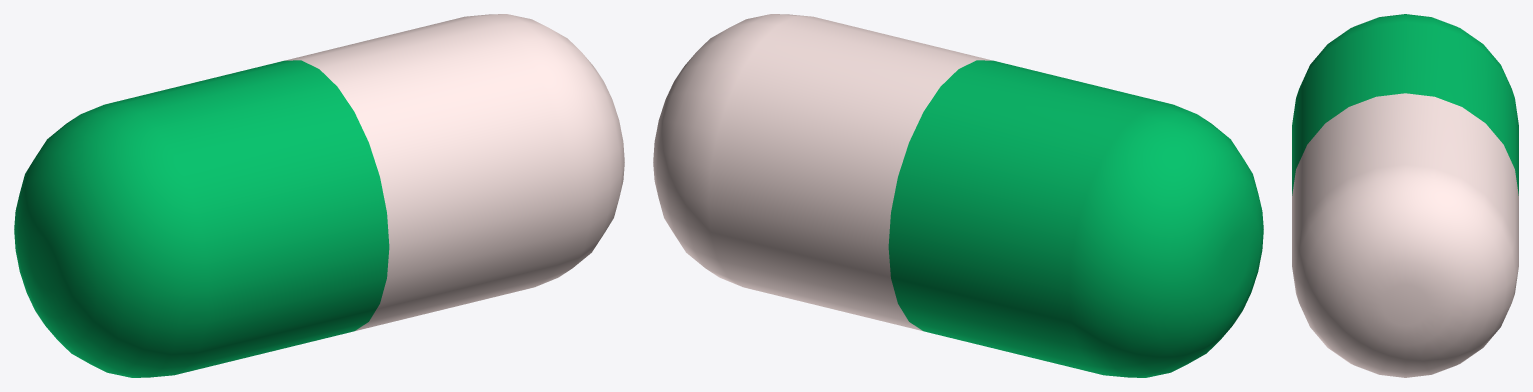
The model's file is Store_15_Pill_6.glb.
3 renders of one model, left to right at view 1: azimuth 30°, elevation 25°; view 2: azimuth 150°, elevation 25°; view 3: azimuth 270°, elevation 25°, orthographic. The views are drawn at different scales.
Parts seen in each view (by area): view 1: Store_15_Pill_6; view 2: Store_15_Pill_6; view 3: Store_15_Pill_6.
Boxes of the visible parts, bbox=[...] form: Store_15_Pill_6: bbox=[14, 14, 624, 377]; Store_15_Pill_6: bbox=[653, 14, 1263, 377]; Store_15_Pill_6: bbox=[1292, 14, 1518, 377].
Size of the model in its own units: 1.76 by 0.7695 by 0.7695.
Materials: 1 (1 with a texture image).
